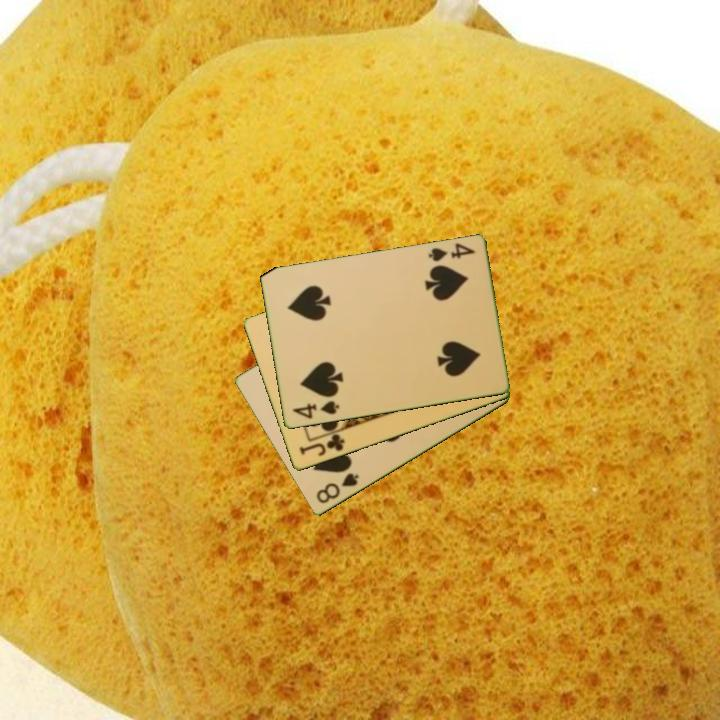4s: (424, 240, 478, 265), (289, 397, 342, 422)
8s: (312, 470, 362, 507)
Jc: (296, 431, 348, 459)
